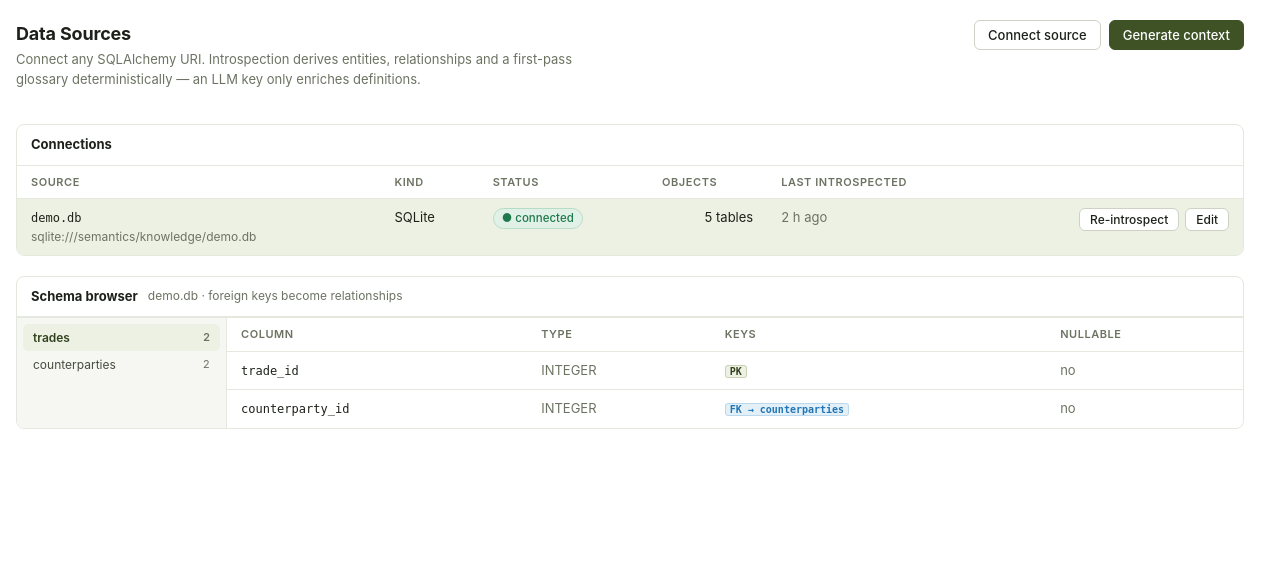
it: Generate context shows a real result summary with next-step links, not just a fleeting toast
Click the button "Generate context" at (1176, 35), box [1109,20,1244,50]
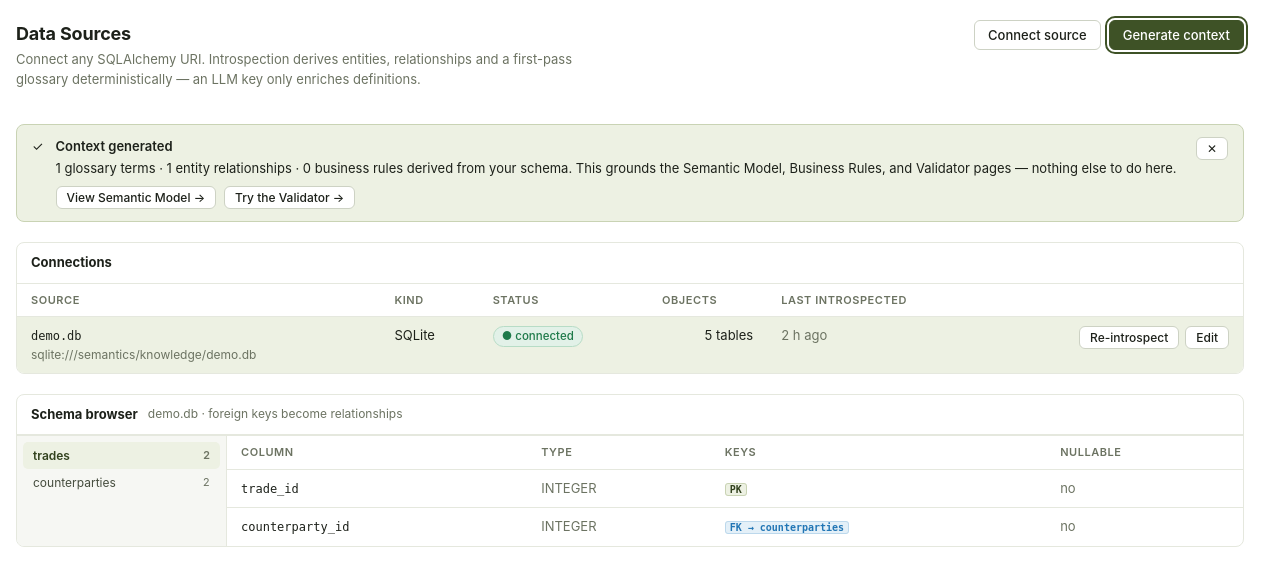
Expected: the text "Context generated" is shown, [56,138,172,154]
Expected: the text "1 glossary terms · 1 entity relationships · 0 business rules" is shown, [56,158,1184,178]
Expected: the button "View Semantic Model →" is shown, [56,186,216,209]
